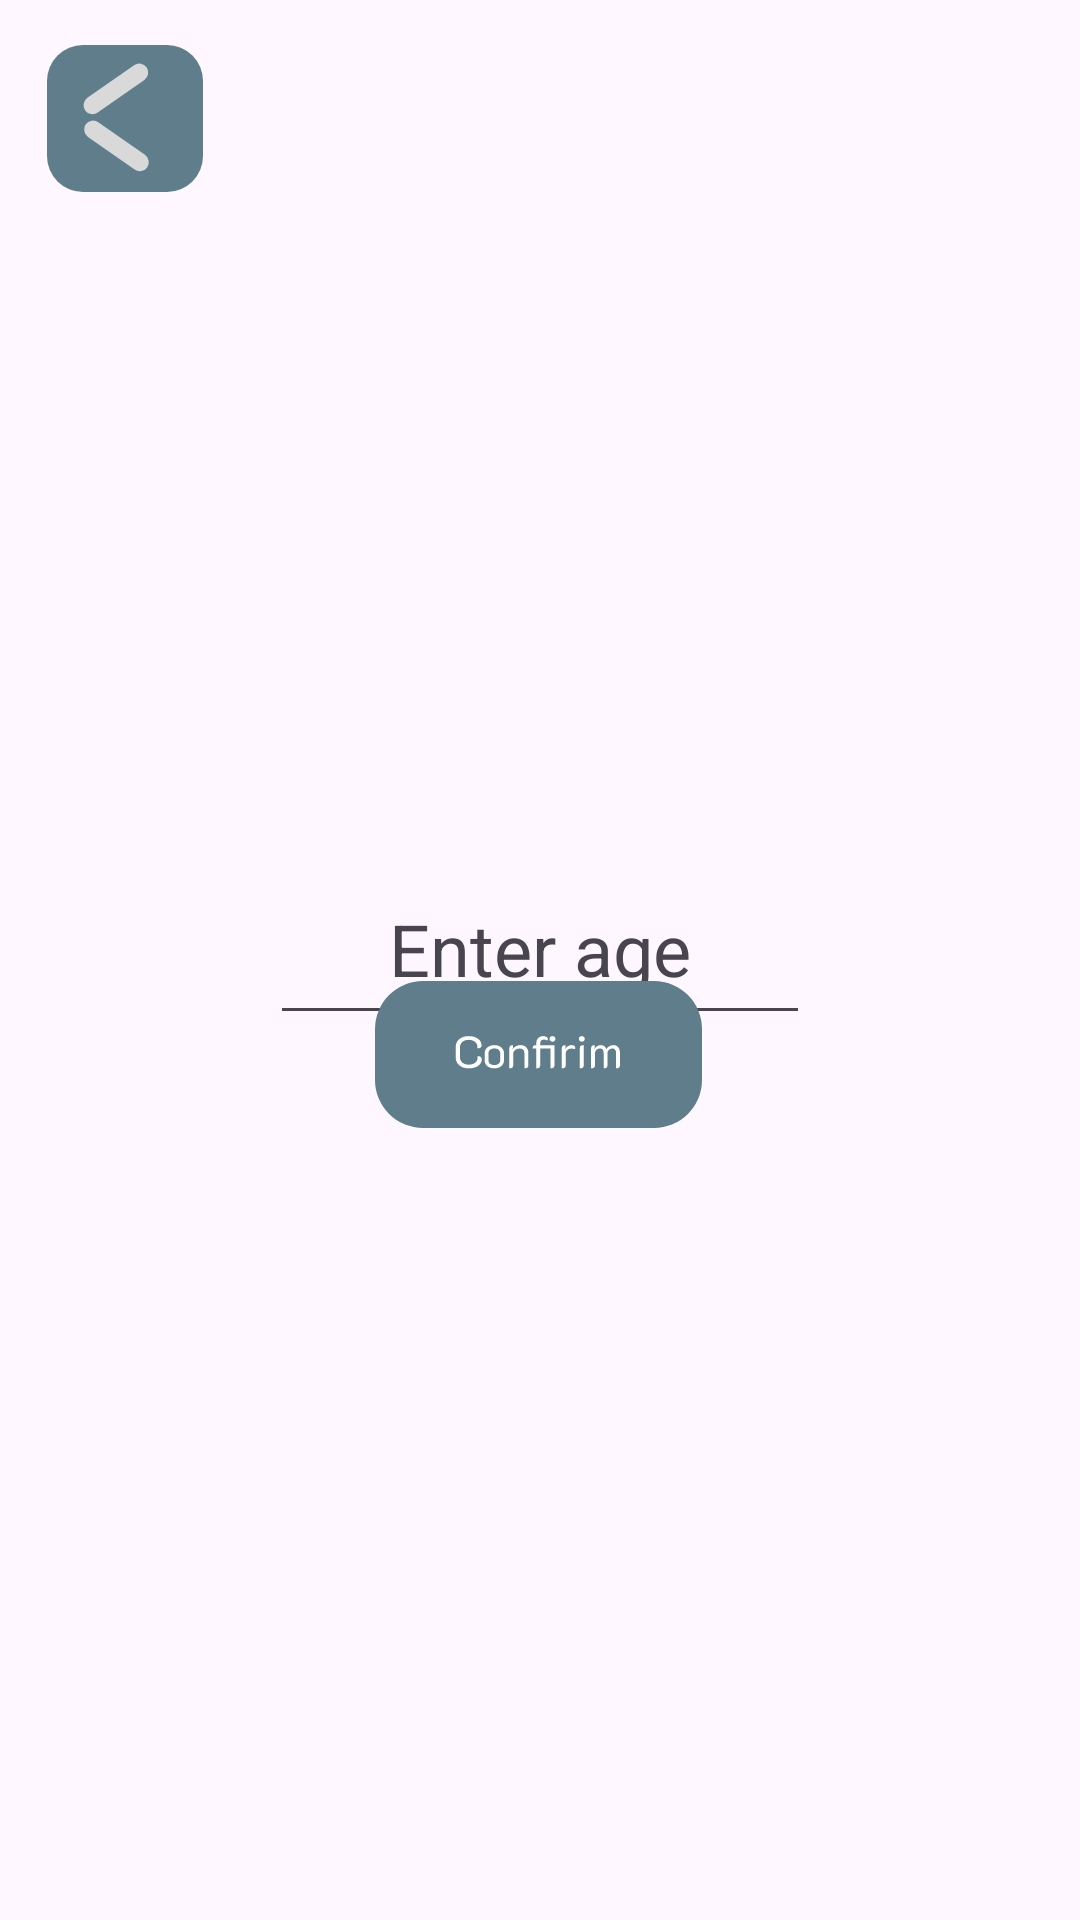

Named icons in this screenshot (1080px x 1920px) and their bounding boxes, detection(x1, y1, x2, y2):
back: detection(47, 45, 203, 192)
